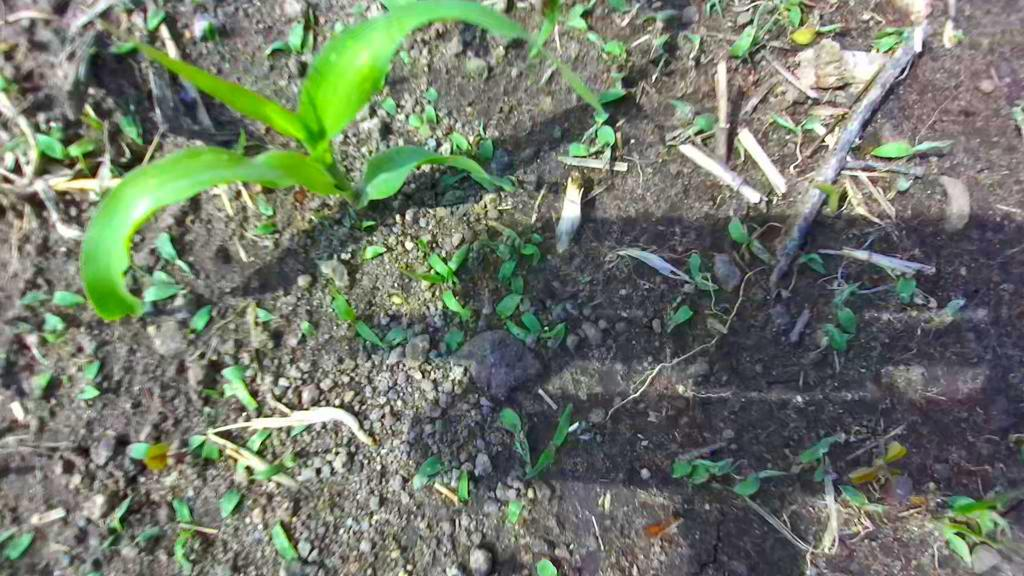BroWeed: (519, 401, 587, 489), (926, 513, 1004, 576), (486, 402, 550, 477), (844, 436, 915, 496), (939, 493, 1012, 545), (259, 15, 320, 73), (766, 102, 813, 177), (95, 92, 156, 148), (412, 230, 460, 292), (401, 447, 448, 509), (792, 425, 852, 473), (729, 457, 788, 503), (660, 108, 722, 150), (33, 132, 105, 168), (591, 60, 643, 106), (832, 480, 890, 521), (149, 228, 193, 282), (870, 134, 954, 162), (515, 310, 570, 352), (265, 517, 303, 576), (490, 271, 533, 323), (23, 298, 71, 342), (786, 17, 848, 50), (8, 316, 69, 349), (318, 279, 359, 328), (680, 249, 720, 298), (179, 296, 223, 340), (747, 5, 787, 51), (0, 525, 39, 571), (830, 278, 862, 334), (810, 318, 856, 356), (483, 213, 527, 252), (101, 486, 136, 535), (581, 27, 632, 60), (349, 101, 389, 143), (574, 104, 612, 148), (249, 452, 299, 485), (813, 179, 852, 220), (471, 228, 516, 263), (934, 503, 984, 533), (670, 456, 735, 479), (868, 26, 917, 56), (162, 486, 196, 529), (498, 317, 542, 350), (18, 287, 87, 308), (168, 528, 198, 576), (212, 480, 247, 521), (19, 327, 53, 369), (349, 316, 386, 354), (497, 490, 533, 529), (665, 92, 700, 131), (492, 246, 523, 289), (660, 301, 698, 336), (374, 91, 409, 129), (0, 129, 30, 173), (443, 237, 478, 274), (720, 212, 755, 249), (128, 518, 166, 552), (141, 435, 174, 474), (227, 374, 260, 413), (595, 123, 616, 182), (513, 233, 548, 268), (139, 278, 186, 303), (745, 236, 779, 270), (27, 367, 62, 400), (462, 51, 495, 86), (347, 240, 389, 266), (797, 111, 830, 144), (673, 27, 705, 61), (880, 172, 916, 202), (805, 454, 838, 486), (438, 321, 471, 353), (301, 5, 322, 55), (341, 207, 377, 236), (445, 129, 481, 158), (936, 291, 968, 323), (243, 421, 273, 455), (685, 459, 720, 488), (104, 32, 138, 61), (405, 109, 434, 142), (891, 273, 919, 306), (437, 284, 464, 318), (165, 284, 197, 312), (795, 250, 829, 276), (251, 190, 279, 221), (14, 368, 38, 404), (46, 118, 79, 144), (75, 107, 105, 135), (179, 428, 209, 456), (190, 439, 222, 465), (377, 325, 410, 350), (478, 115, 494, 166), (75, 379, 102, 408), (399, 268, 445, 285), (0, 69, 24, 101), (454, 299, 482, 326), (435, 171, 467, 194), (420, 84, 447, 111), (662, 121, 695, 143), (298, 316, 320, 348), (942, 19, 965, 49), (792, 250, 823, 272), (416, 267, 441, 294), (650, 29, 671, 61), (730, 6, 758, 30), (453, 466, 471, 503), (202, 383, 237, 402), (81, 354, 105, 381), (370, 102, 394, 127), (420, 95, 438, 128), (145, 267, 176, 286), (437, 187, 468, 206), (251, 306, 277, 328), (565, 12, 592, 33), (123, 441, 152, 460), (872, 23, 902, 41), (202, 17, 221, 45), (286, 419, 312, 439), (488, 43, 508, 69), (568, 141, 600, 157), (243, 221, 278, 235), (220, 364, 247, 382), (436, 138, 458, 160), (1009, 106, 1024, 138), (75, 153, 93, 179), (0, 521, 19, 544), (98, 533, 119, 552), (0, 34, 19, 54), (524, 229, 545, 247), (536, 559, 558, 576), (57, 371, 75, 391), (398, 47, 416, 67), (517, 296, 536, 314), (607, 0, 631, 13), (202, 405, 216, 427), (669, 293, 685, 310), (416, 260, 432, 276), (233, 459, 248, 476), (961, 533, 977, 548), (389, 292, 405, 306), (801, 5, 811, 25), (1013, 91, 1024, 109), (426, 137, 439, 152), (114, 0, 135, 9), (142, 300, 156, 313), (111, 165, 124, 178), (193, 441, 203, 457), (332, 19, 344, 32), (452, 142, 461, 154), (720, 0, 730, 9), (84, 572, 102, 576)
